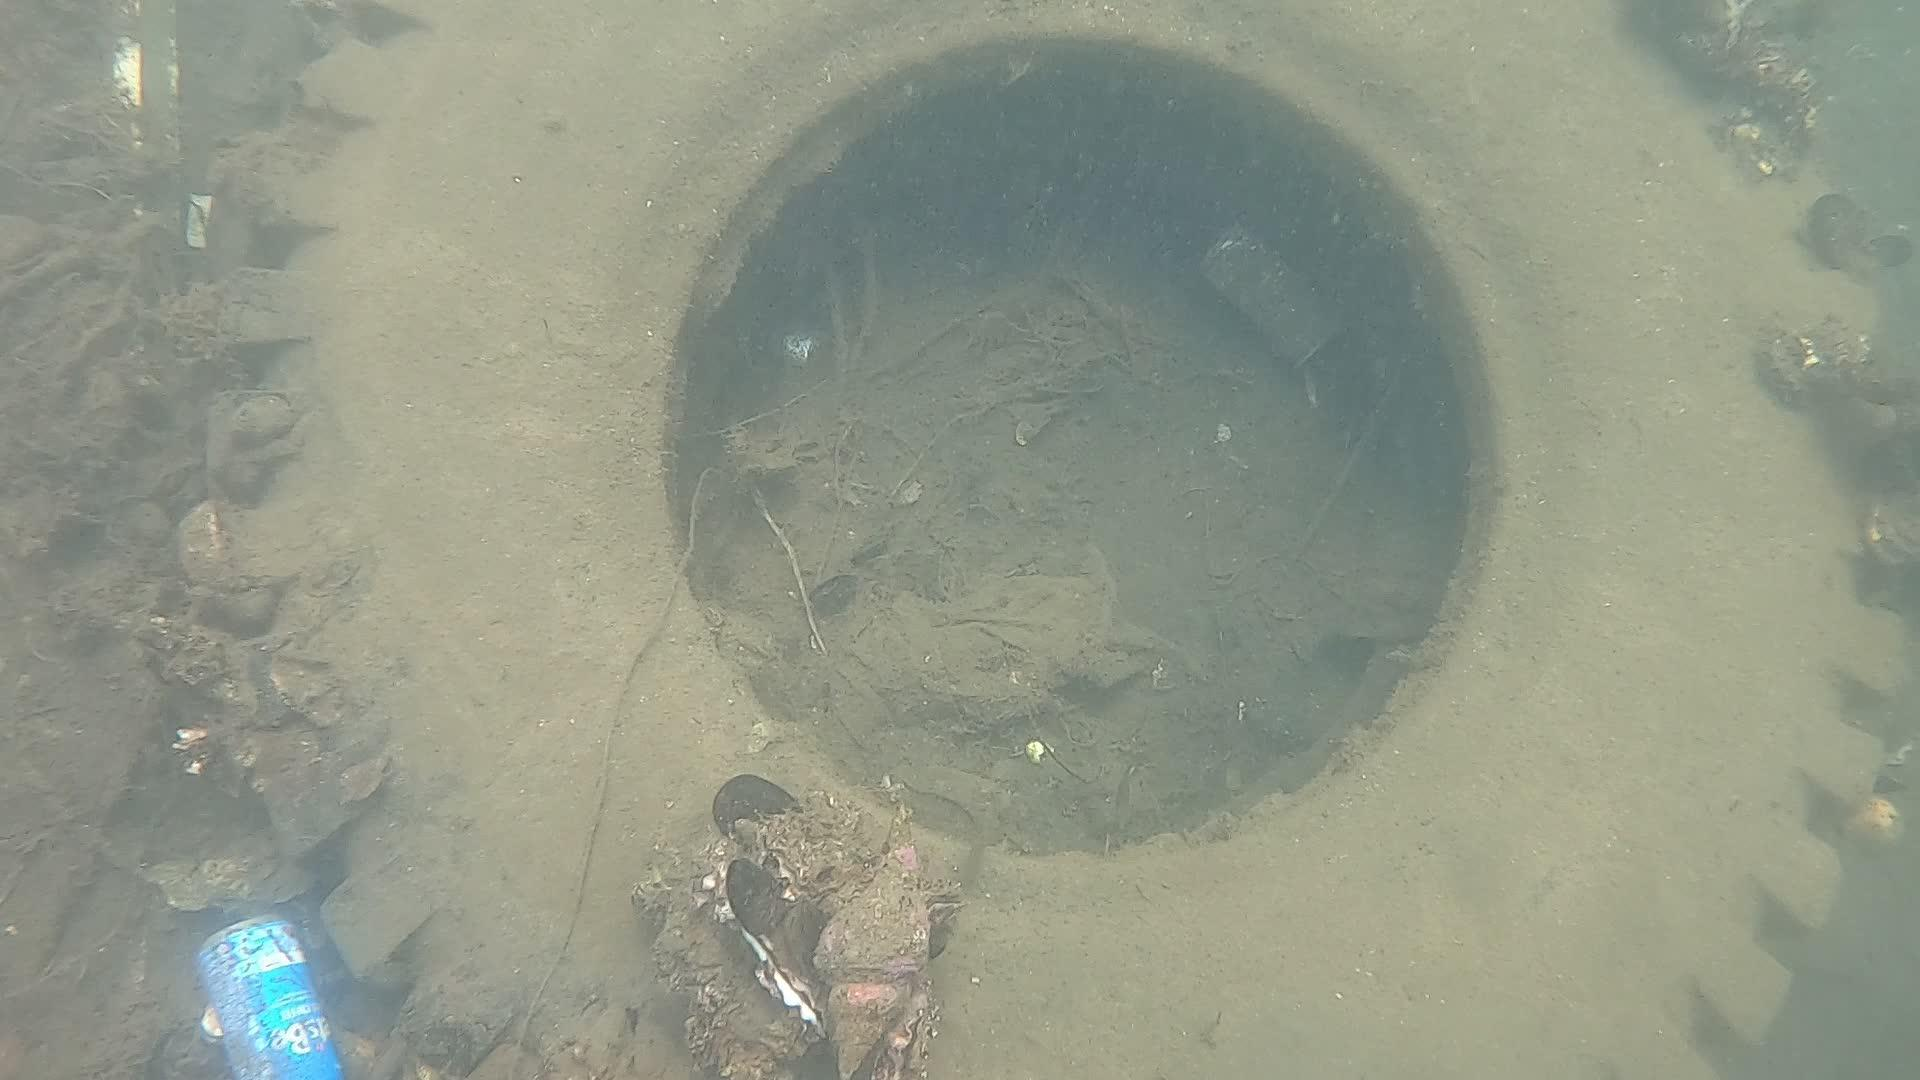tire: (194, 0, 1917, 1080)
